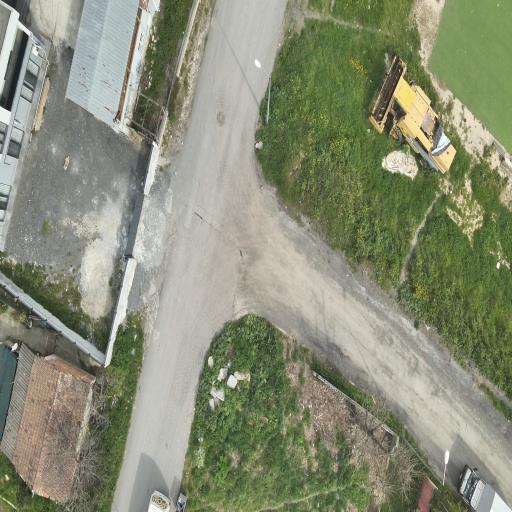car: (458, 466, 510, 511), (147, 491, 171, 512)
harvester: (369, 53, 455, 173)
